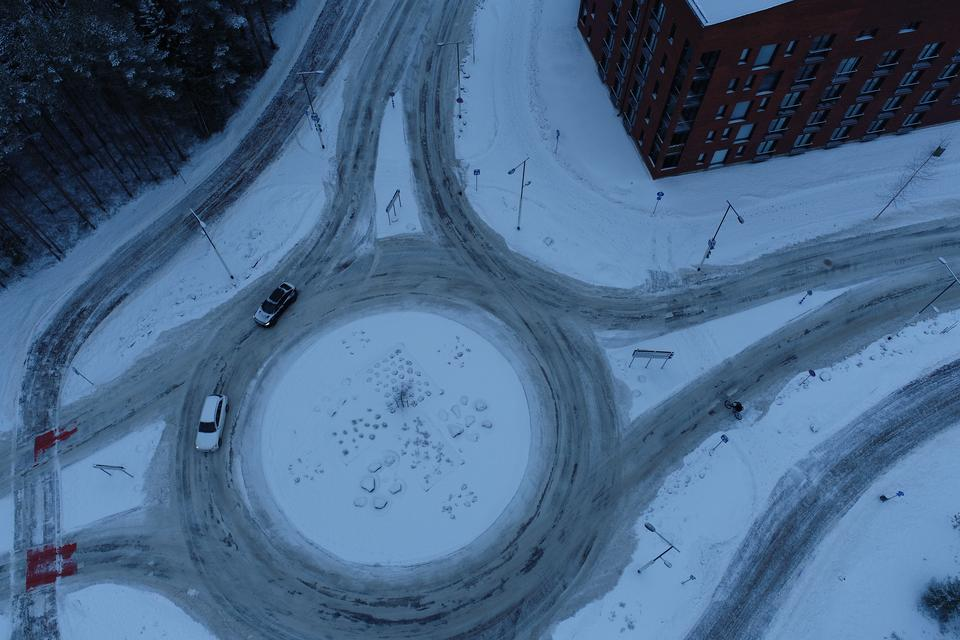intersection: (2, 368, 91, 614)
roundabout: (104, 224, 693, 640)
